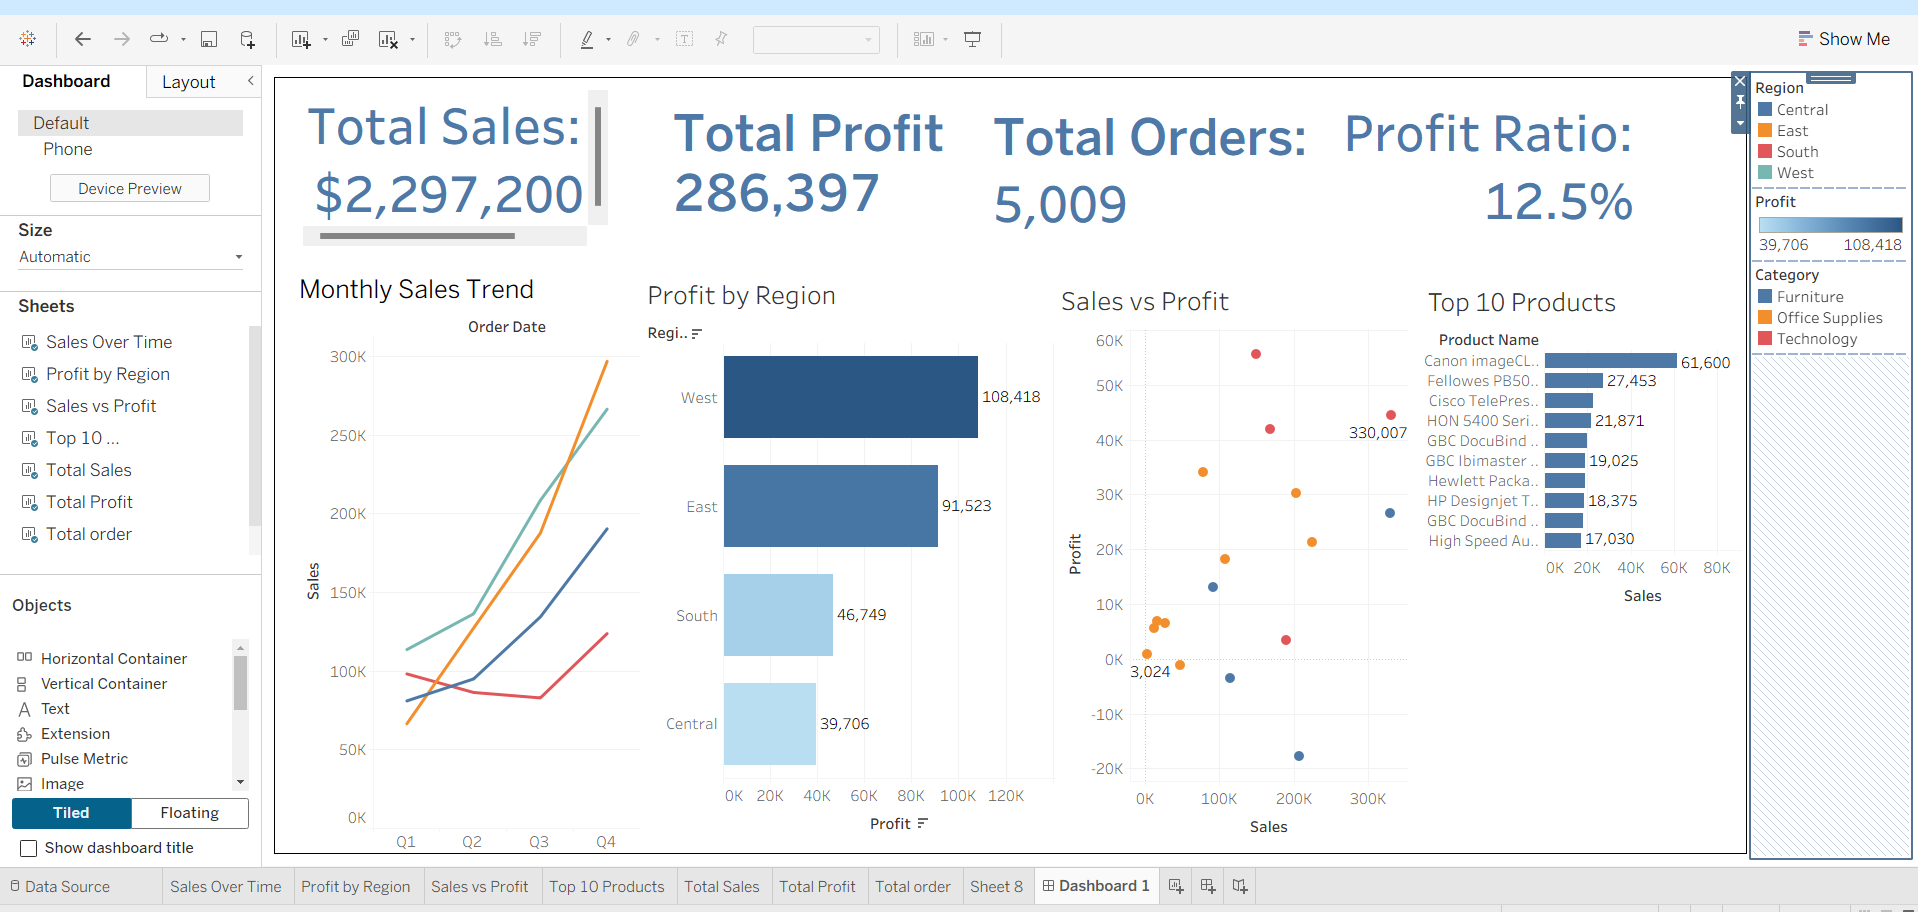

What the dashboard file says about the page in this screenshot:
{"tool":"tableau","page":{"name":"Dashboard 1","canvas":[1000,1000],"units":"permille","ordinal":0},"visuals":[{"type":"dashboard-object","param":"[com.tableau.addfilters].[0.0.0].[https://extensions.tableauusercontent.com/sand","box":[4.8,10,893.8,980]},{"type":"legend","title":"Sales Over Time","param":"[federated.10o9vbo0w6xp1h17jc2gu1gl0nla].[none:Region:nk]","box":[898.6,10,96.6,142.3]},{"type":"worksheet","title":"Total Sales","mark":"Automatic","box":[24.7,12.5,184.1,213.5]},{"type":"worksheet","title":"Sheet 8","mark":"Automatic","box":[649.4,21.2,182.9,239.7]},{"type":"worksheet","title":"Total Profit","mark":"Automatic","box":[245.6,30,185.3,174.8]},{"type":"worksheet","title":"Total order","mark":"Automatic","box":[438.7,35,255.9,223.5]},{"type":"legend","title":"Profit by Region","param":"[federated.10o9vbo0w6xp1h17jc2gu1gl0nla].[sum:Profit:qk]","box":[898.6,152.3,96.6,91.1]},{"type":"legend","title":"Sales vs Profit","param":"[federated.10o9vbo0w6xp1h17jc2gu1gl0nla].[none:Category:nk]","box":[898.6,243.5,96.6,116.1]},{"type":"worksheet","title":"Sales Over Time","mark":"Automatic","rows":["Sales"],"cols":["Order Date"],"box":[19.9,254.7,208.2,729.1]},{"type":"worksheet","title":"Profit by Region","mark":"Automatic","rows":["Region"],"cols":["Profit"],"box":[229.9,259.7,250.5,709.1]},{"type":"worksheet","title":"Sales vs Profit","mark":"Circle","rows":["Profit"],"cols":["Sales"],"box":[479.8,267.2,211.8,705.4]},{"type":"worksheet","title":"Top 10 Products","mark":"Automatic","rows":["Product Name"],"cols":["Sales"],"box":[701.3,268.4,191.9,639.2]}]}

Visuals, with their boxes on the dashboard's canvas, which has no fixed pixel size, in thousandths of its width and height (x1, y1, x2, y2). These are canvas units, not pixel positions in the 1918x912 screenshot, which may show the page scaled, cropped or inside an application window:
dashboard-object: select_region(5, 10, 899, 990)
"Sales Over Time" legend: select_region(899, 10, 995, 152)
"Total Sales" worksheet: select_region(25, 12, 209, 226)
"Sheet 8" worksheet: select_region(649, 21, 832, 261)
"Total Profit" worksheet: select_region(246, 30, 431, 205)
"Total order" worksheet: select_region(439, 35, 695, 258)
"Profit by Region" legend: select_region(899, 152, 995, 243)
"Sales vs Profit" legend: select_region(899, 244, 995, 360)
"Sales Over Time" worksheet: select_region(20, 255, 228, 984)
"Profit by Region" worksheet: select_region(230, 260, 480, 969)
"Sales vs Profit" worksheet (Circle marks): select_region(480, 267, 692, 973)
"Top 10 Products" worksheet: select_region(701, 268, 893, 908)
